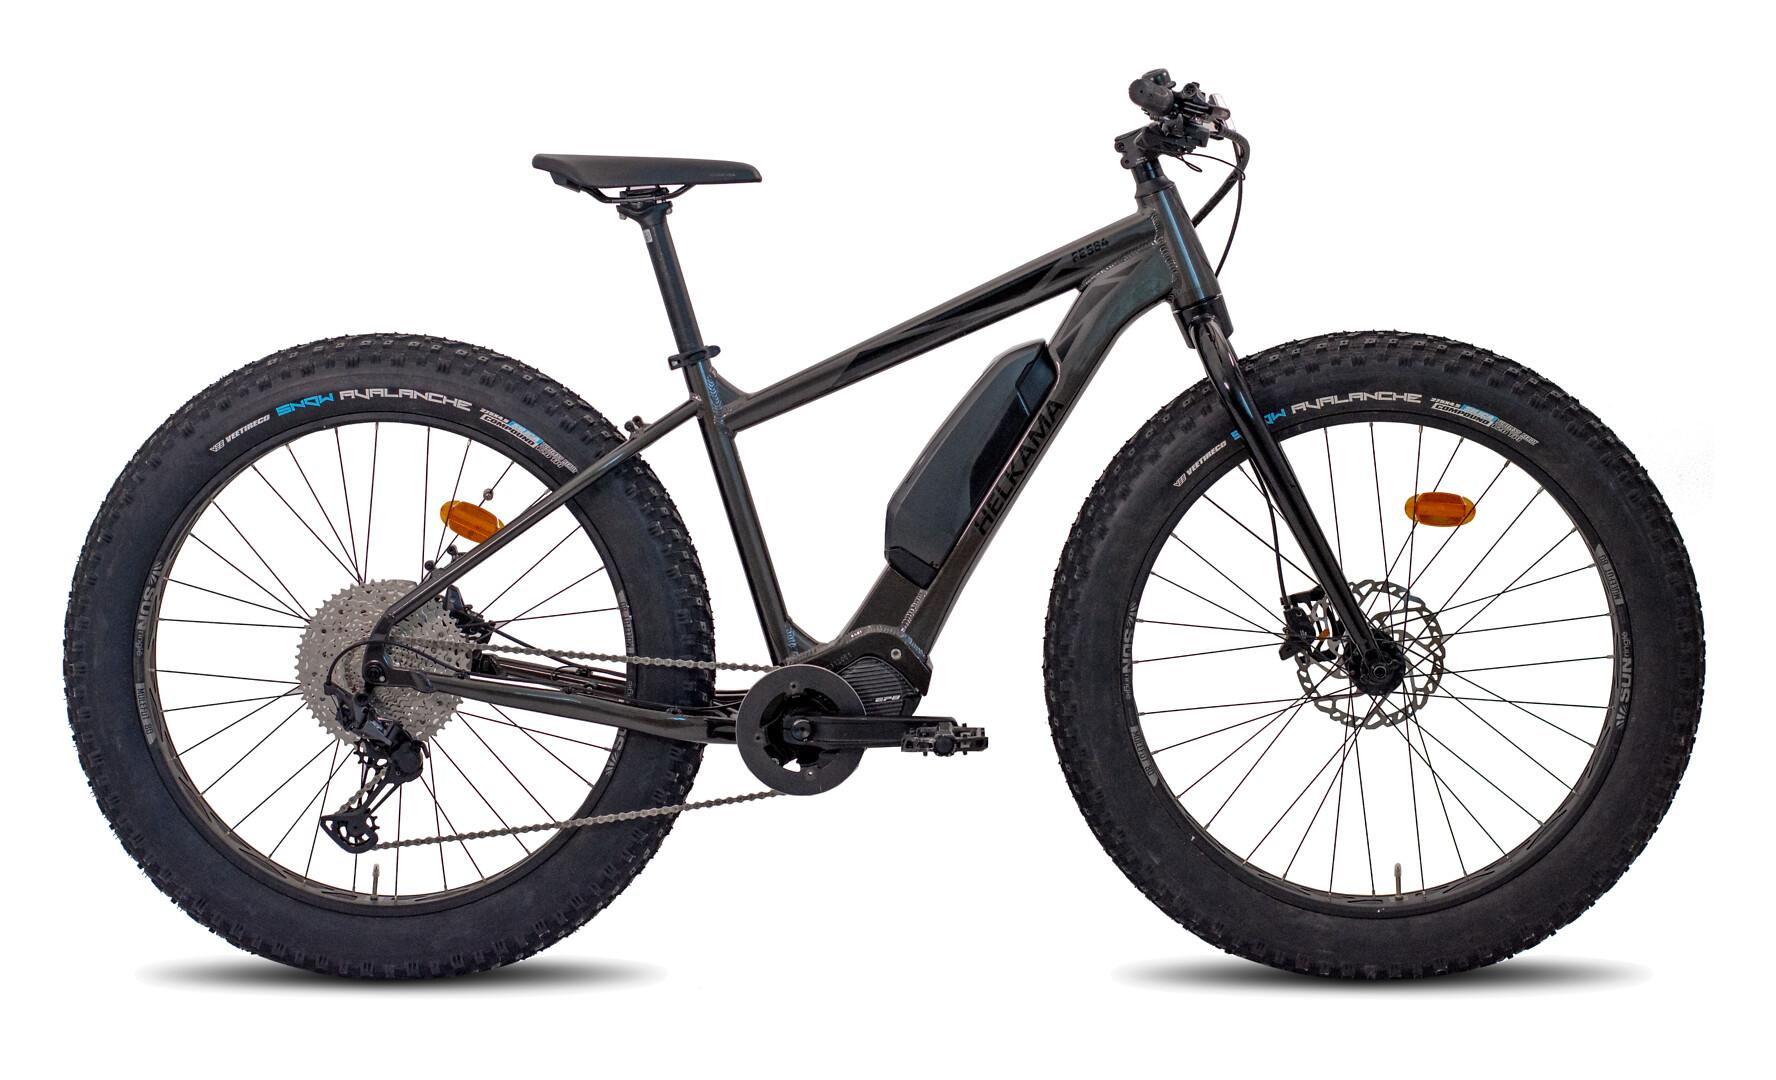bicycle: (38, 51, 1733, 1009)
